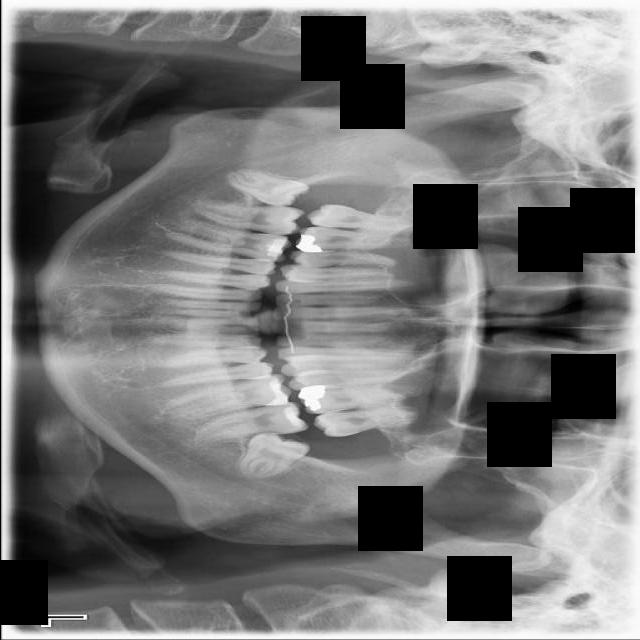52: (240, 229, 294, 266), (294, 381, 347, 416), (291, 225, 343, 254)
73: (65, 604, 74, 610)
BioHorizons Implant: (312, 404, 417, 439)
Biomet 3i Implant: (235, 426, 312, 491)
Blue Sky Bio Implant: (199, 400, 307, 440)
Caries: (306, 201, 415, 232)
Implant: (189, 198, 304, 237)
Keystone Dental Implant: (224, 166, 311, 211)
